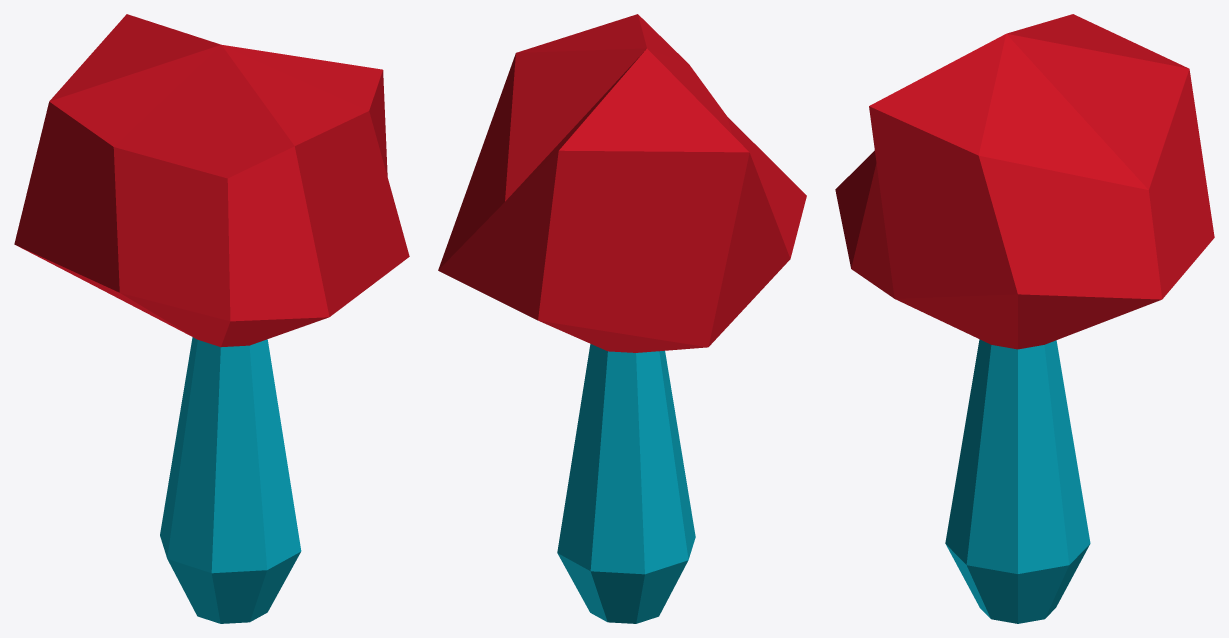
The model's file is TREE-OBJ.obj.
3 renders of one model, left to right at view 1: azimuth 30°, elevation 25°; view 2: azimuth 150°, elevation 25°; view 3: azimuth 270°, elevation 25°, orthographic. The views are drawn at different scales.
Parts seen in each view (by area): view 1: Sphere; view 2: Sphere; view 3: Sphere.
Part boxes in pixels (<box>): Sphere: <box>14,14,409,623</box>; Sphere: <box>438,14,806,623</box>; Sphere: <box>835,14,1214,623</box>.
Bounding box in the file's own units: 1.98 × 3.48 × 2.11.
